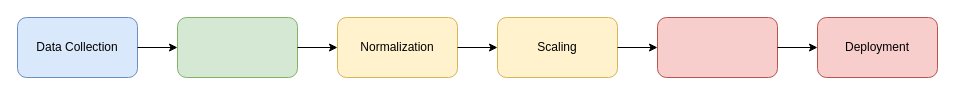
Image size: 955x95. Some labels were removed from this diagram. The shapes that lost their labels are listed below. From the top down, each one's centre as x and y in pixels, then its label:
At (x=237, y=47): "Data Preprocessing".
At (x=717, y=47): "Model Training".
